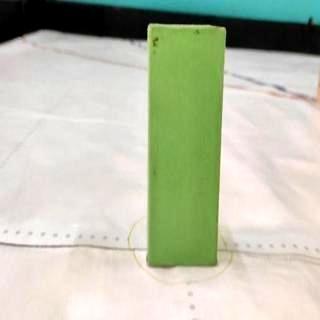greenbox: (148, 24, 218, 267)
